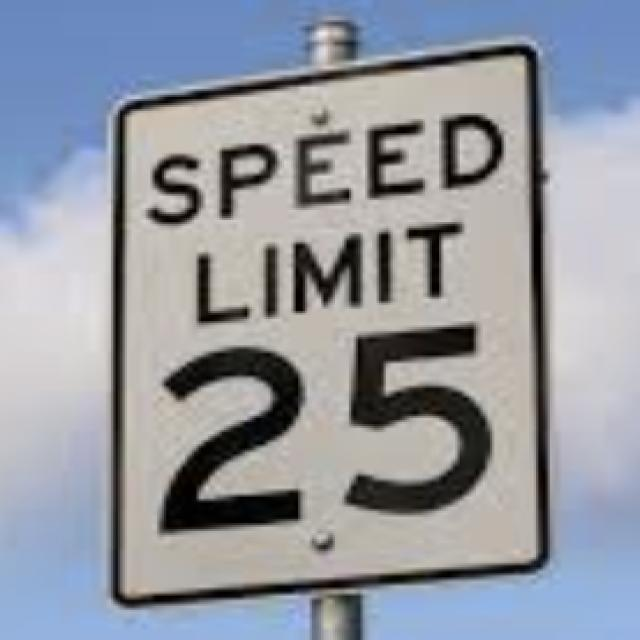speedLimit25: (114, 47, 536, 600)
